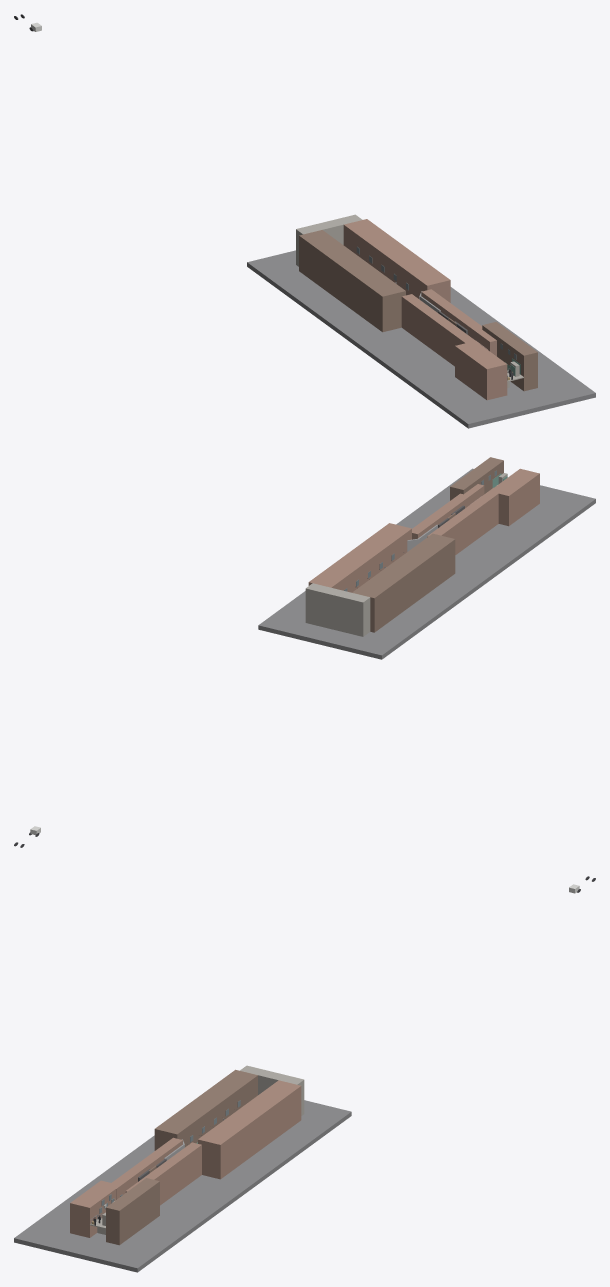
3 views of the same model, one above another, from view 1: azimuth 30°, elevation 25°; view 2: azimuth 150°, elevation 25°; view 3: azimuth 330°, elevation 25° (orthographic). The views are drawn at different scales.
Parts seen in each view (by area): view 1: ground, bldML, bldMR, wallL2, bldL, bldR, wallR2, bldEnd; view 2: ground, bldML, bldMR, bldEnd, wallL2, bldL, wallR2, bldR; view 3: ground, bldMR, bldML, bldR, wallR2, bldL, wallL2, bldEnd.
Boxes of the visible parts, x1=… form: ground: x1=247, y1=250, x2=595, y2=428; bldML: x1=299, y1=230, x2=405, y2=332; bldMR: x1=343, y1=219, x2=450, y2=302; wallL2: x1=401, y1=294, x2=480, y2=366; bldL: x1=455, y1=341, x2=507, y2=400; bldR: x1=482, y1=322, x2=537, y2=391; wallR2: x1=421, y1=289, x2=496, y2=356; bldEnd: x1=296, y1=214, x2=362, y2=266; ground: x1=258, y1=468, x2=595, y2=659; bldML: x1=352, y1=533, x2=455, y2=632; bldMR: x1=308, y1=523, x2=411, y2=592; bldEnd: x1=305, y1=583, x2=370, y2=636; wallL2: x1=427, y1=487, x2=502, y2=554; bldL: x1=489, y1=468, x2=539, y2=526; wallR2: x1=412, y1=484, x2=484, y2=539; bldR: x1=450, y1=457, x2=503, y2=500; ground: x1=14, y1=1100, x2=351, y2=1272; bldMR: x1=198, y1=1080, x2=301, y2=1179; bldML: x1=154, y1=1069, x2=257, y2=1150; bldR: x1=106, y1=1178, x2=159, y2=1245; wallR2: x1=125, y1=1142, x2=201, y2=1205; bldL: x1=70, y1=1180, x2=117, y2=1237; wallL2: x1=109, y1=1137, x2=182, y2=1199; bldEnd: x1=240, y1=1065, x2=304, y2=1115.
Bounding box in the file's own units: 30 × 9 × 213.
